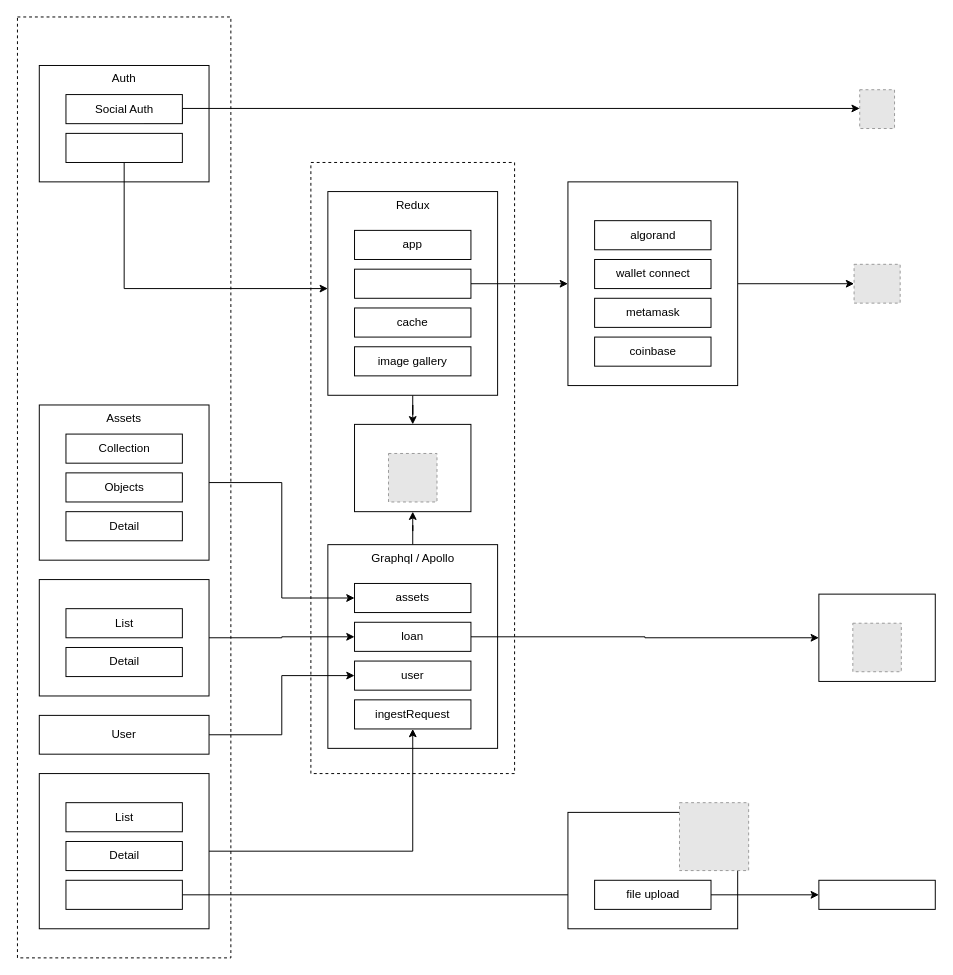
Image size: 953x975. Some labels were removed from this diagram. Grey dashed boxes stand in for pictures. Each missing label, with the box of its shape:
Certificate Requests: (38, 773, 209, 929)
Create / Update: (65, 879, 182, 909)
Datastore API: (567, 811, 738, 929)
Hasura Graphql API: (818, 593, 935, 681)
JWT: (354, 423, 471, 512)
Loans: (38, 579, 209, 696)
REST API: (818, 879, 935, 909)
Store: (310, 162, 515, 774)
Views: (16, 16, 231, 958)
wallet: (354, 268, 471, 298)
web3: (567, 181, 738, 386)
Web3 Auth: (65, 132, 182, 162)
